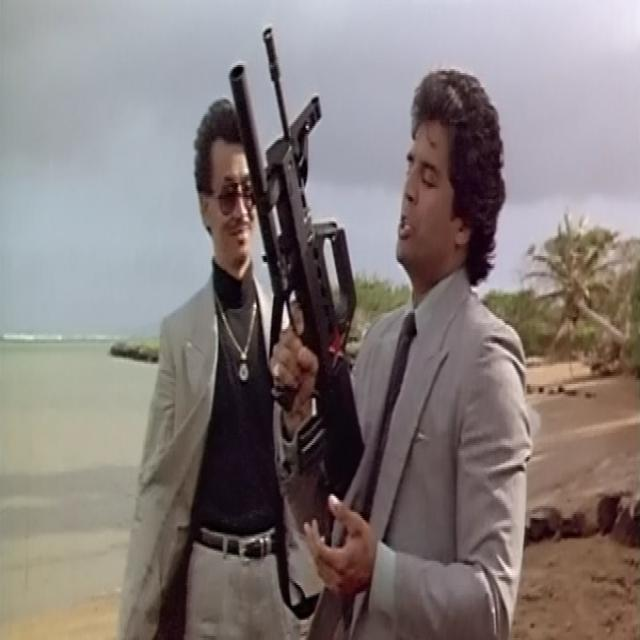rifle: (229, 21, 369, 504)
